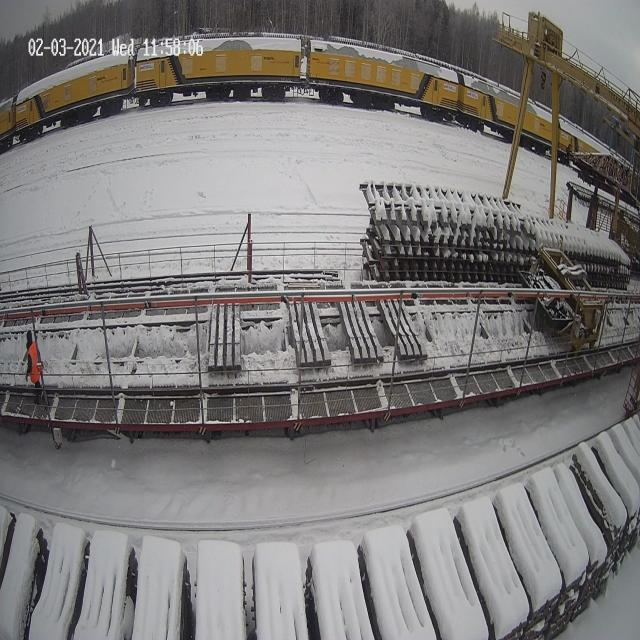Person: (22, 329, 44, 403)
